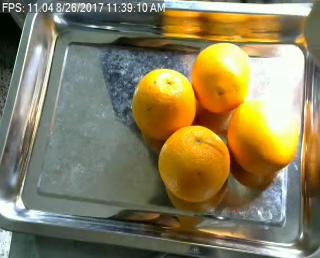Orange: (158, 124, 230, 202), (228, 101, 299, 174), (132, 69, 196, 141), (192, 41, 252, 111)
